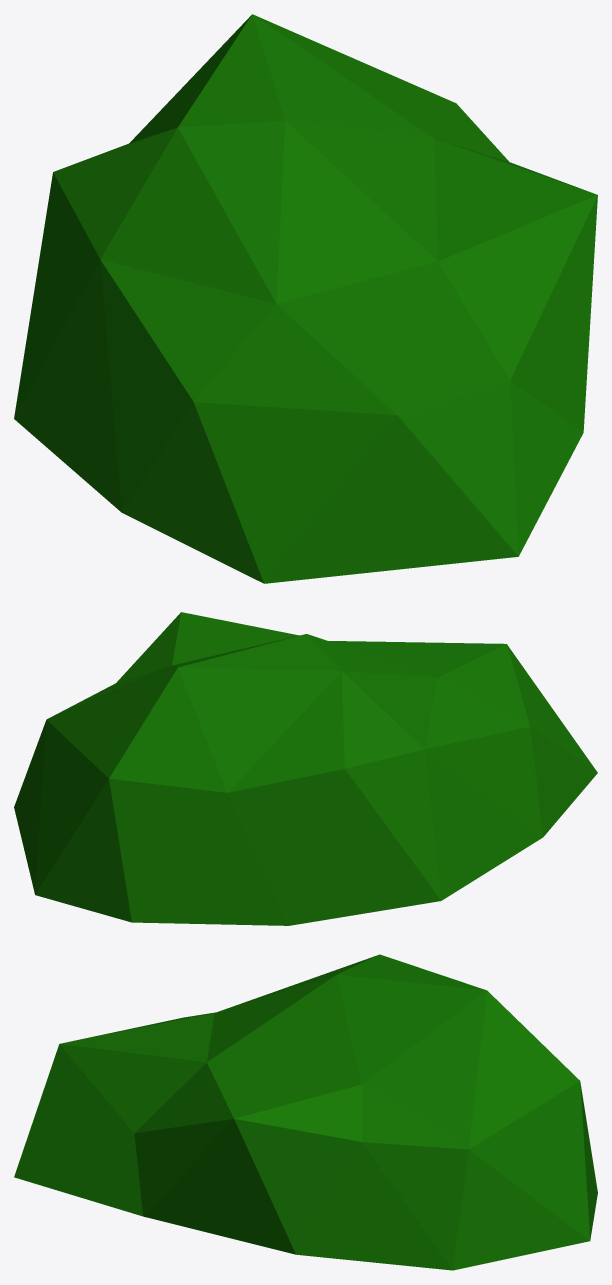
File: arbusto2.FBX
3 views of the same model, one above another, from view 1: azimuth 30°, elevation 25°; view 2: azimuth 150°, elevation 25°; view 3: azimuth 270°, elevation 25° (orthographic). The views are drawn at different scales.
Parts seen in each view (by area): view 1: GeoSphere001; view 2: GeoSphere001; view 3: GeoSphere001.
Boxes of the visible parts, left/top/right/bottom form: GeoSphere001: left=14, top=14, right=597, bottom=583; GeoSphere001: left=14, top=612, right=597, bottom=925; GeoSphere001: left=14, top=954, right=597, bottom=1270.
Bounding box in the file's own units: 127 × 62.71 × 159.
